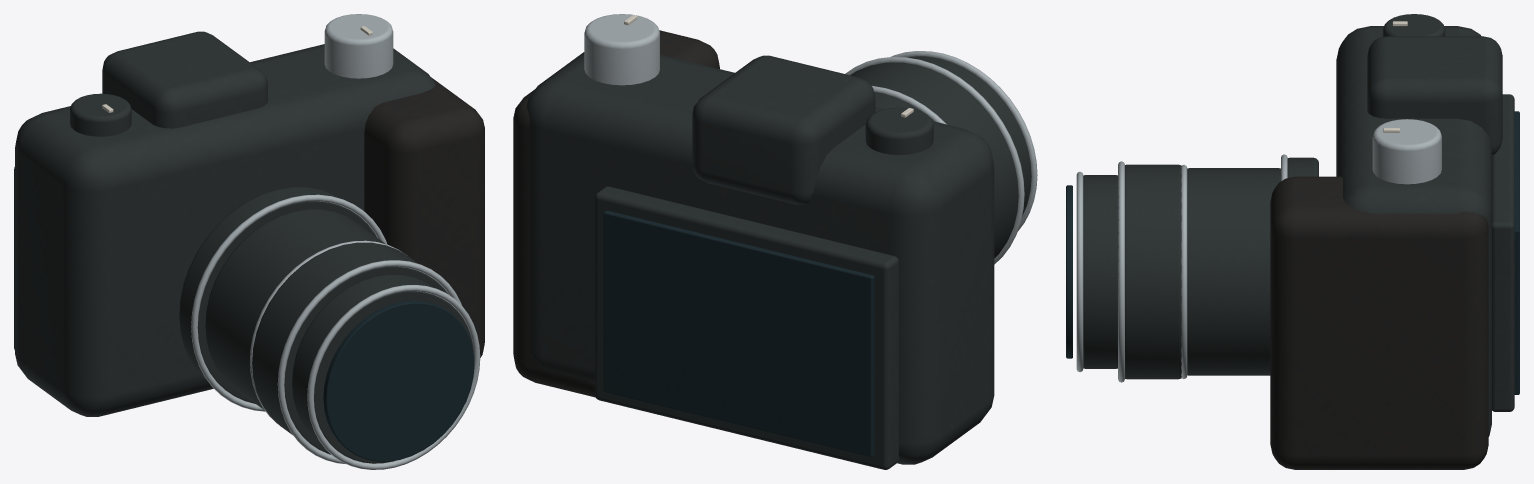
The model's file is camera.glb.
The picture shows the model from 3 angles, left to right: view 1: azimuth 30°, elevation 25°; view 2: azimuth 150°, elevation 25°; view 3: azimuth 270°, elevation 25°; orthographic projection. The views are drawn at different scales.
Parts seen in each view (by area): view 1: Camera magnesium body, Textured hand grip, Optical lens, Stepped lens barrel.001, Viewfinder housing, Stepped lens barrel.002, Stepped lens barrel.003, Stepped lens barrel, Top rotary control, Lens barrel trim.003, Lens barrel trim, Lens barrel trim.002 (+2 smaller); view 2: Camera magnesium body, Inset display glass, Viewfinder housing, Screen surround, Textured hand grip, Stepped lens barrel.002, Top rotary control, Top rotary control.001, Stepped lens barrel.003, Lens barrel trim.002, Lens barrel trim.003; view 3: Textured hand grip, Stepped lens barrel.001, Camera magnesium body, Stepped lens barrel.002, Viewfinder housing, Stepped lens barrel.003, Screen surround, Top rotary control, Inset display glass, Lens barrel trim.003, Lens barrel trim.002, Lens barrel trim.001 (+3 smaller).
Part boxes in pixels (box(x1,y1,x2,y2)): Camera magnesium body: box(15, 44, 435, 416); Textured hand grip: box(364, 77, 484, 357); Optical lens: box(323, 300, 474, 461); Stepped lens barrel.001: box(205, 209, 385, 410); Viewfinder housing: box(102, 31, 267, 128); Stepped lens barrel.002: box(252, 242, 448, 454); Stepped lens barrel.003: box(292, 274, 473, 463); Stepped lens barrel: box(179, 187, 376, 403); Top rotary control: box(324, 14, 393, 78); Lens barrel trim.003: box(307, 285, 480, 469); Lens barrel trim: box(191, 194, 387, 411); Lens barrel trim.002: box(277, 260, 461, 464); Camera magnesium body: box(527, 52, 994, 464); Inset display glass: box(603, 210, 874, 457); Viewfinder housing: box(692, 55, 875, 204); Screen surround: box(595, 186, 898, 469); Textured hand grip: box(513, 30, 719, 397); Stepped lens barrel.002: box(850, 62, 1018, 258); Top rotary control: box(584, 14, 659, 85); Top rotary control.001: box(865, 107, 933, 154); Stepped lens barrel.003: box(907, 56, 1031, 216); Lens barrel trim.002: box(845, 57, 1024, 264); Lens barrel trim.003: box(891, 51, 1037, 231); Textured hand grip: box(1270, 176, 1488, 469); Stepped lens barrel.001: box(1187, 168, 1280, 375); Camera magnesium body: box(1336, 26, 1491, 436); Stepped lens barrel.002: box(1125, 164, 1181, 379); Viewfinder housing: box(1367, 36, 1502, 155); Stepped lens barrel.003: box(1083, 175, 1117, 368); Screen surround: box(1492, 94, 1514, 411); Top rotary control: box(1372, 119, 1441, 184); Inset display glass: box(1514, 111, 1519, 394); Lens barrel trim.003: box(1076, 171, 1083, 371); Lens barrel trim.002: box(1118, 161, 1124, 382); Lens barrel trim.001: box(1181, 165, 1187, 378).
Size of the model in its own units: 0.1285 by 0.1007 by 0.131.
5 materials, 5 textured.
